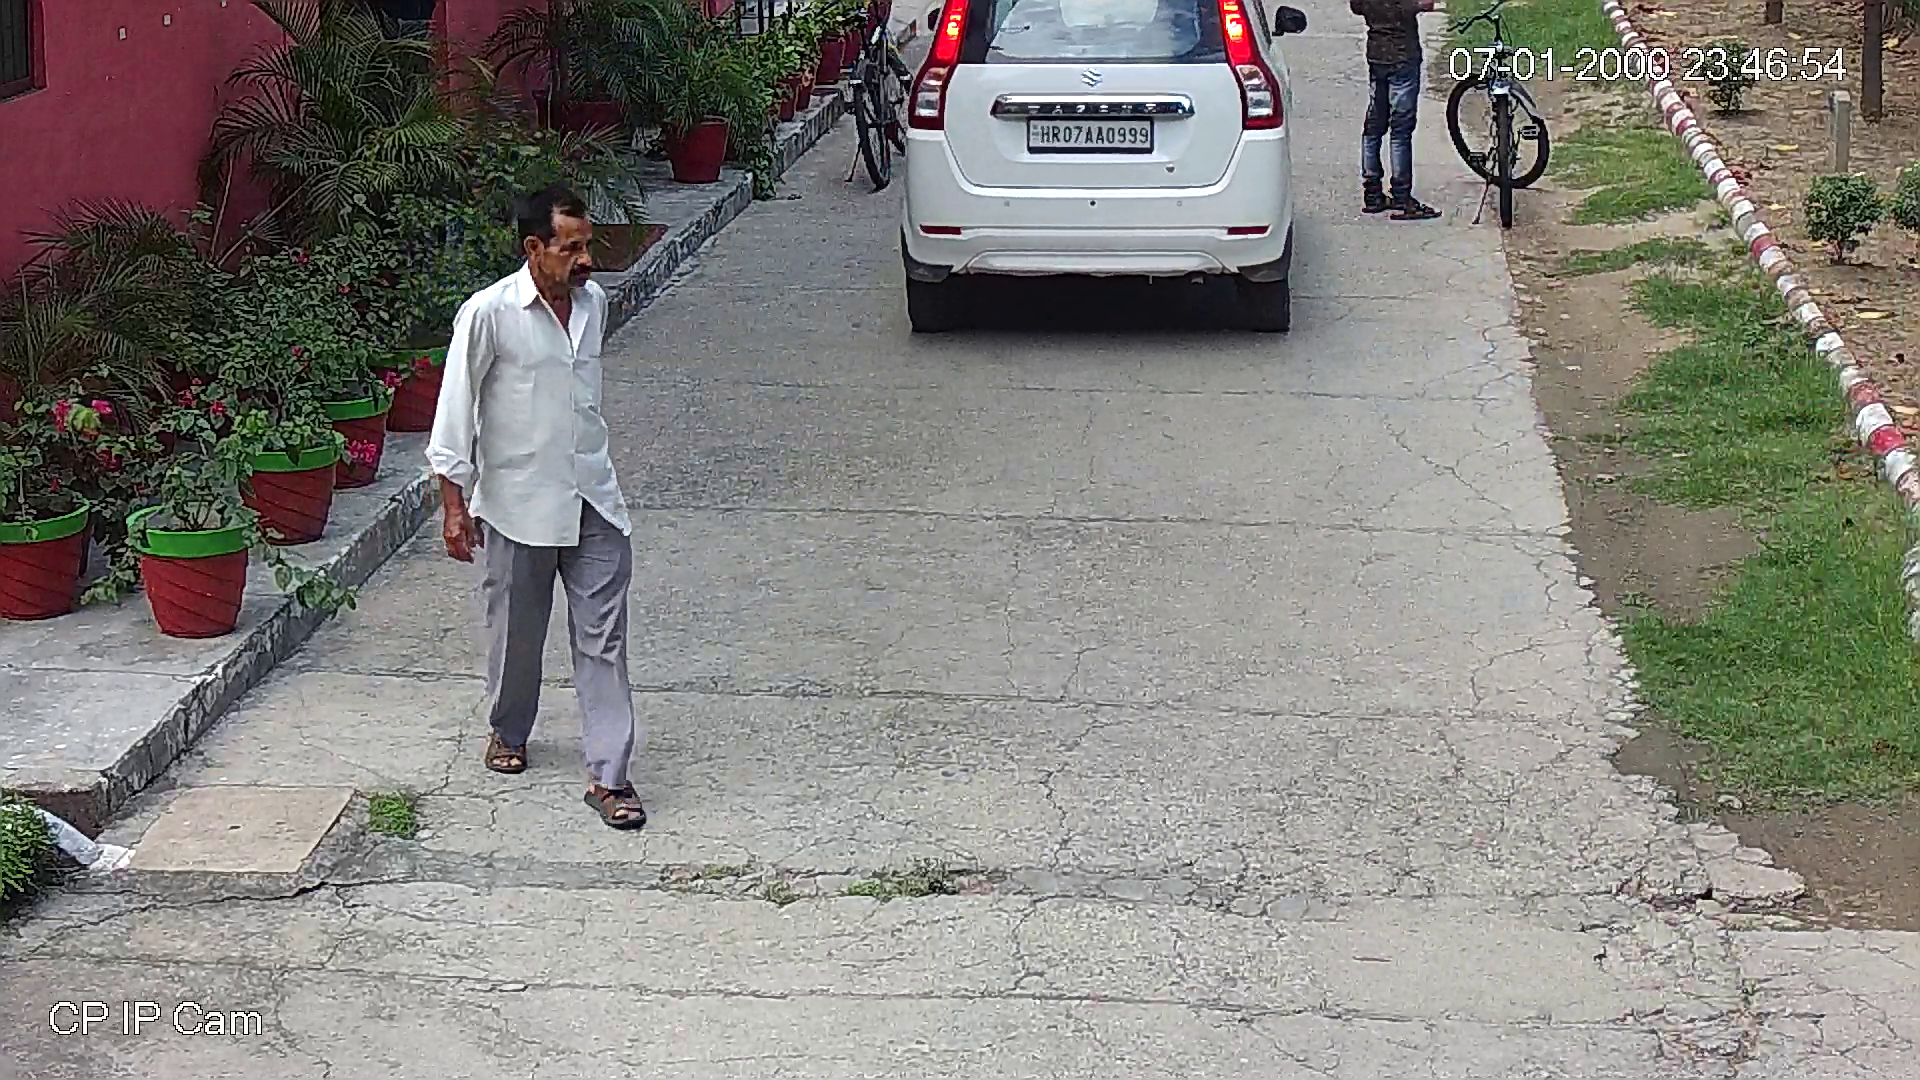plate: (1019, 115, 1159, 150)
